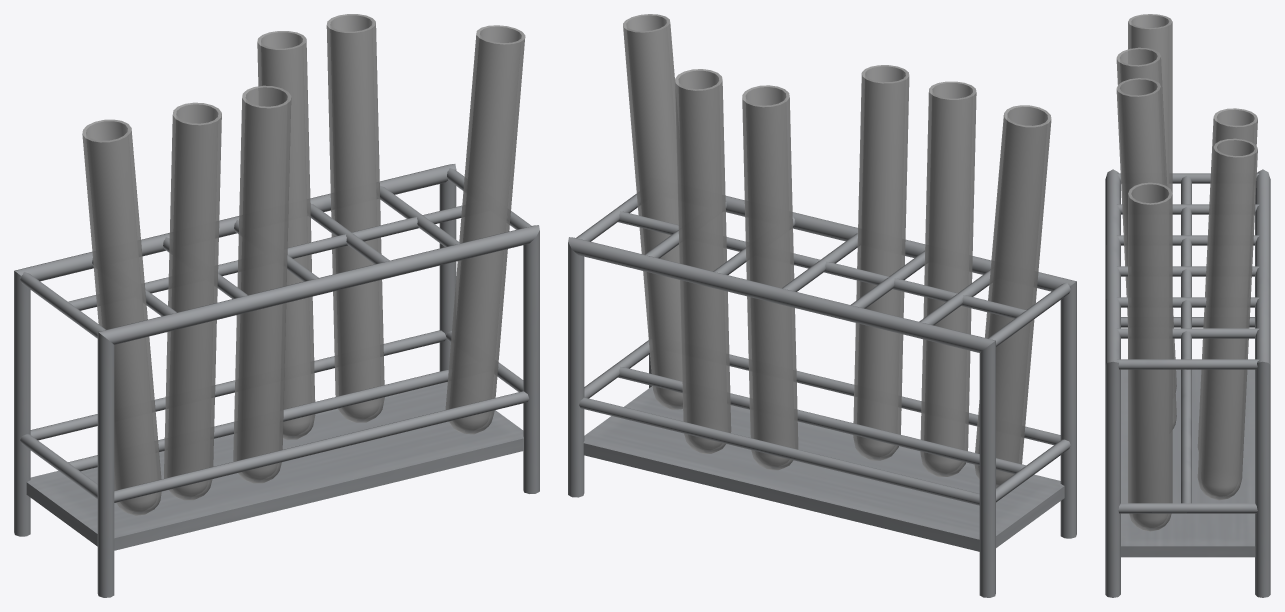
Rendered from TestTubeGrp.fbx.
3 views of the same model, side by side, from view 1: azimuth 30°, elevation 25°; view 2: azimuth 150°, elevation 25°; view 3: azimuth 270°, elevation 25° (orthographic). The views are drawn at different scales.
Parts seen in each view (by area): view 1: TestTube, Stand; view 2: TestTube, Stand; view 3: TestTube, Stand.
Boxes of the visible parts, left/top/right/bottom form: TestTube: left=82, top=14, right=525, bottom=515; Stand: left=14, top=164, right=539, bottom=597; TestTube: left=623, top=14, right=1051, bottom=487; Stand: left=568, top=194, right=1076, bottom=597; TestTube: left=1116, top=14, right=1257, bottom=531; Stand: left=1105, top=169, right=1270, bottom=597.
Size of the model in its own units: 20.76 by 19.87 by 7.47.
